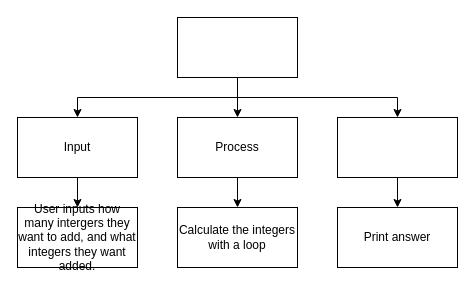
The diagram is 475 pixels wide and 291 high, and some of its shapes have lost their labels. Here are the shapes that lost their labels. From the top down, the centre of each, then its label:
the point at 237,47: Number add program
the point at 397,147: Output
